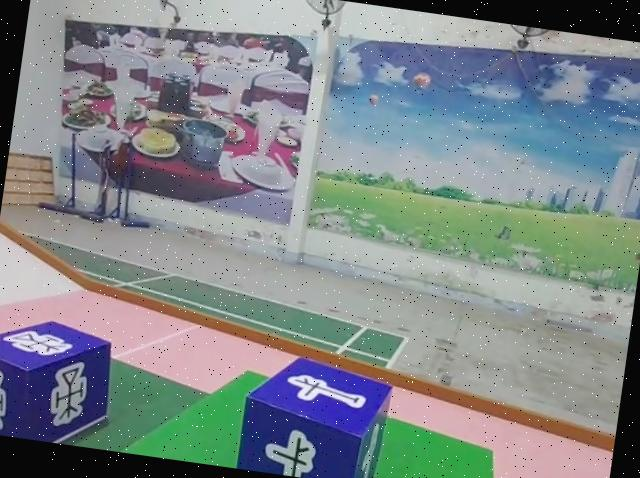R2 Real Blue: (234, 349, 393, 478), (0, 311, 120, 450)
